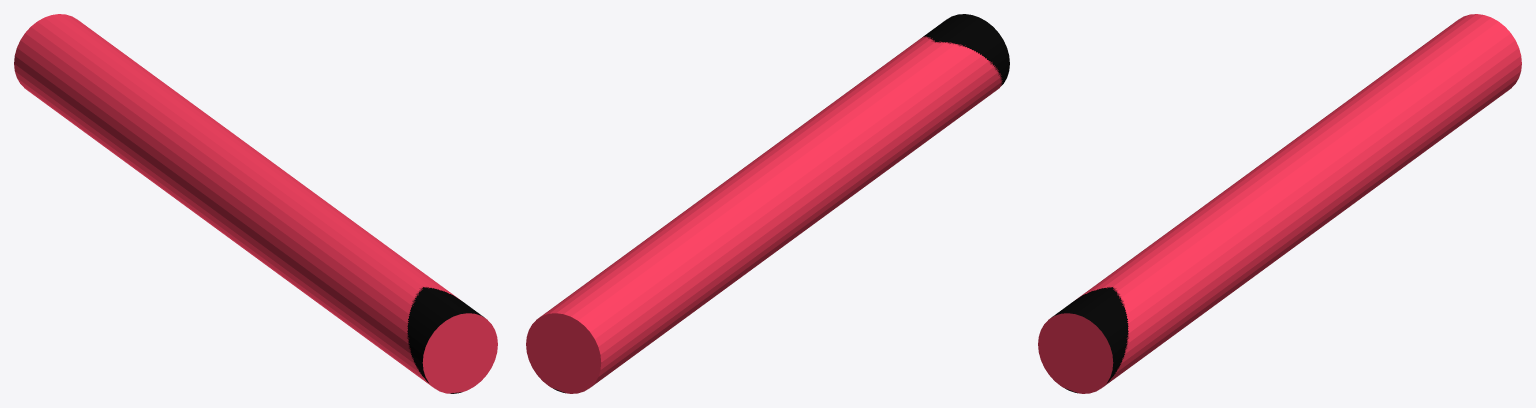
The model's file is EnemyLazer.obj.
3 views of the same model, side by side, from view 1: azimuth 30°, elevation 25°; view 2: azimuth 150°, elevation 25°; view 3: azimuth 330°, elevation 25° (orthographic).
Visible parts, largest first — view 1: EnemyLazer; view 2: EnemyLazer; view 3: EnemyLazer.
Part boxes in pixels (x1,y1,x2,y2): EnemyLazer: (14,14,497,393); EnemyLazer: (526,14,1009,393); EnemyLazer: (1038,14,1521,393).
Size of the model in its own units: 0.0547 by 0.0547 by 0.5146.
1 material, 1 textured.
